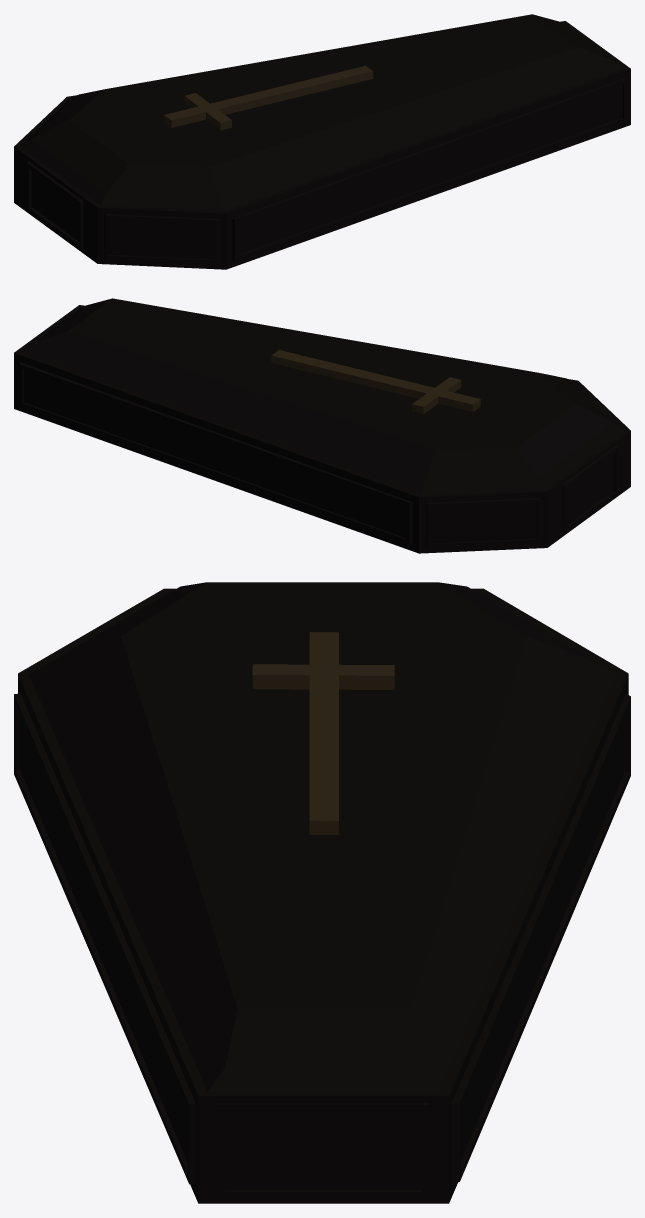
Rendered from Coffin Final.FBX.
3 views of the same model, one above another, from view 1: azimuth 30°, elevation 25°; view 2: azimuth 150°, elevation 25°; view 3: azimuth 270°, elevation 25° (orthographic). The views are drawn at different scales.
Parts seen in each view (by area): view 1: Box001, Box002, Box003; view 2: Box001, Box002, Box003; view 3: Box001, Box002, Box003.
Boxes of the visible parts, bbox=[...] form: Box001: bbox=[14, 14, 630, 269]; Box002: bbox=[164, 66, 373, 127]; Box003: bbox=[184, 93, 231, 130]; Box001: bbox=[14, 298, 630, 553]; Box002: bbox=[271, 350, 480, 411]; Box003: bbox=[412, 377, 461, 414]; Box001: bbox=[14, 582, 630, 1203]; Box002: bbox=[309, 632, 338, 834]; Box003: bbox=[252, 664, 394, 689].
Bounding box in the file's own units: 51.02 × 7.87 × 26.
